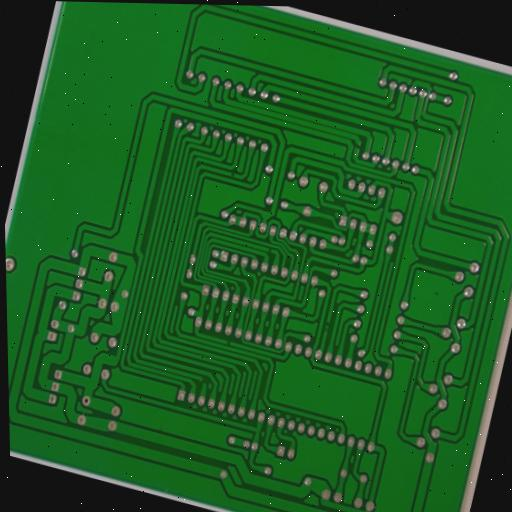open_circuit: (323, 318, 334, 329), (353, 141, 363, 152), (225, 337, 233, 349), (266, 246, 275, 255), (229, 170, 237, 180)
